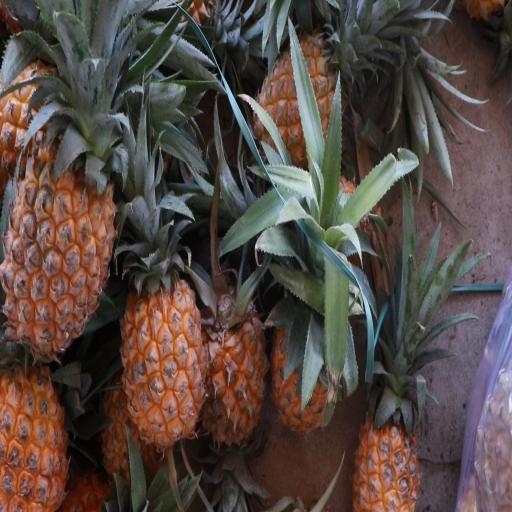Pineapple - v8 v1: (2, 109, 124, 366), (251, 28, 358, 200), (118, 272, 208, 454), (199, 270, 271, 455), (271, 276, 346, 452), (0, 366, 77, 512), (346, 374, 421, 512)
